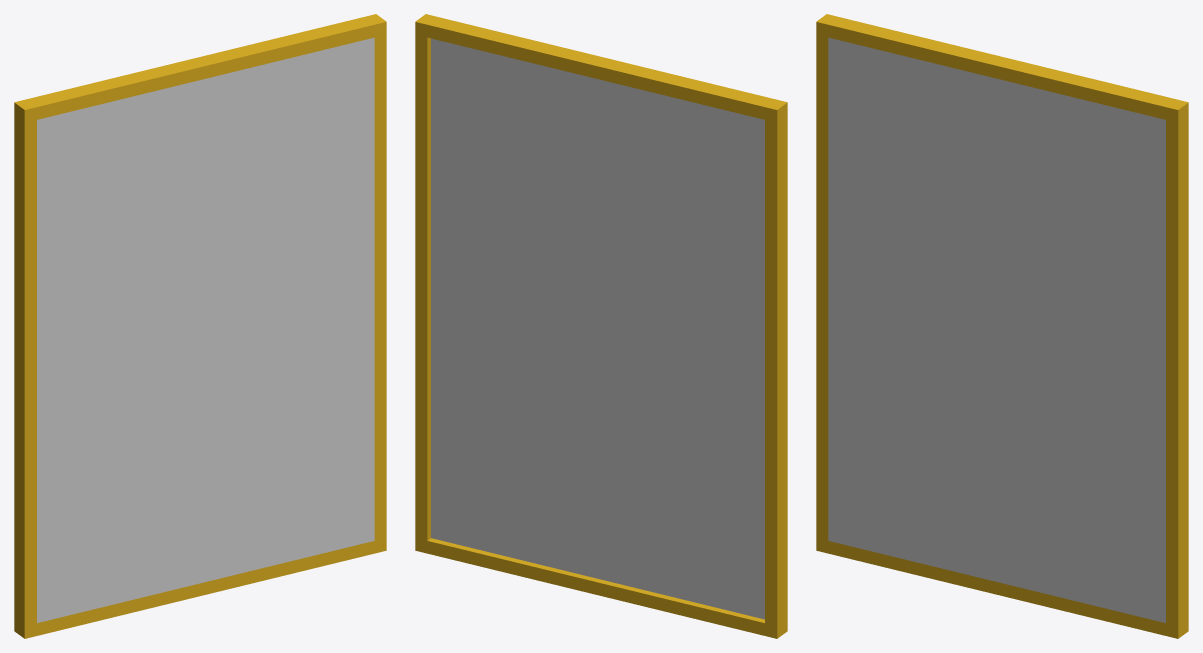
Rendered from Painting_Simple_11x14.fbx.
3 renders of one model, left to right at view 1: azimuth 30°, elevation 25°; view 2: azimuth 150°, elevation 25°; view 3: azimuth 330°, elevation 25°, orthographic.
Parts seen in each view (by area): view 1: Painting_Simple_11x14; view 2: Painting_Simple_11x14; view 3: Painting_Simple_11x14.
Boxes of the visible parts, bbox=[...] form: Painting_Simple_11x14: bbox=[14, 14, 386, 638]; Painting_Simple_11x14: bbox=[415, 14, 787, 638]; Painting_Simple_11x14: bbox=[816, 14, 1188, 638].
Bounding box in the file's own units: 19.24 × 26.86 × 0.9804.
